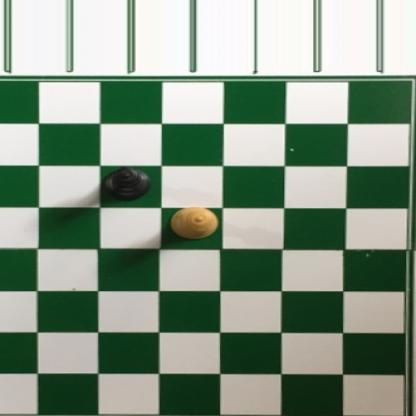black-queen: (102, 165, 152, 204)
white-queen: (168, 205, 217, 238)
